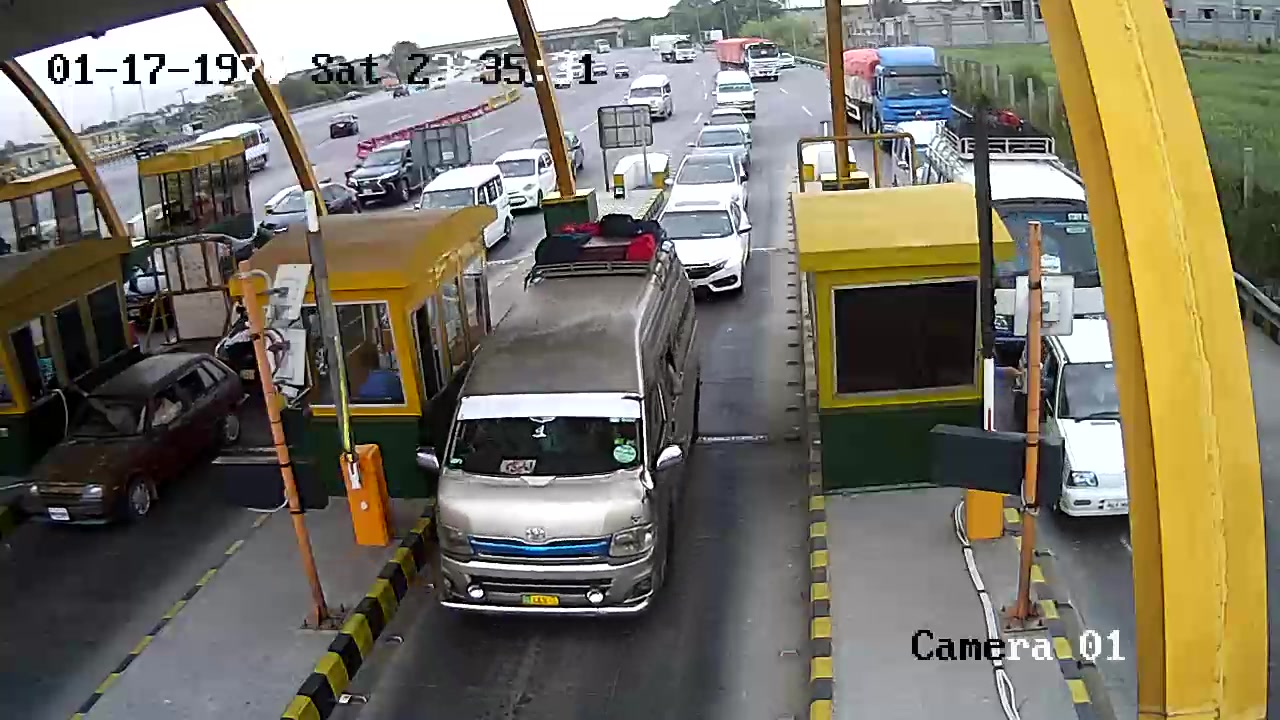F3: (432, 206, 702, 630)
